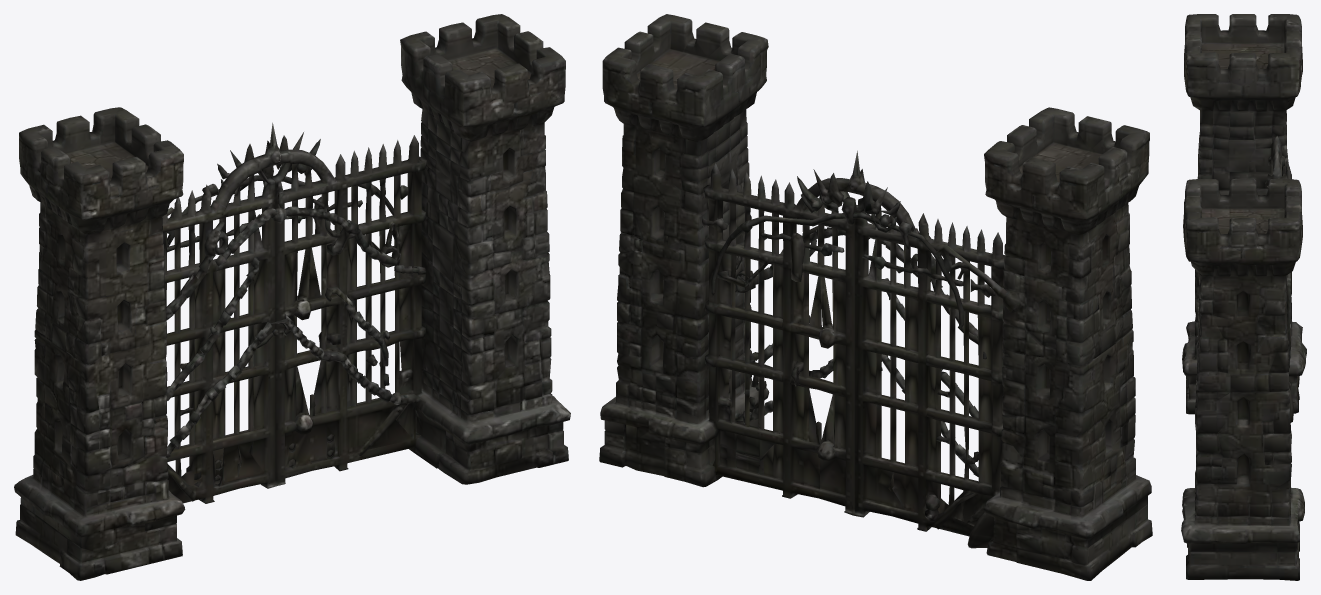
Rendered from black-gate.glb.
3 renders of one model, left to right at view 1: azimuth 30°, elevation 25°; view 2: azimuth 150°, elevation 25°; view 3: azimuth 270°, elevation 25°, orthographic. The views are drawn at different scales.
Visible parts, largest first — view 1: tripo_node_98d25a55-2275-4156-8205-02fb046ccb7d; view 2: tripo_node_98d25a55-2275-4156-8205-02fb046ccb7d; view 3: tripo_node_98d25a55-2275-4156-8205-02fb046ccb7d.
Boxes of the visible parts, x1,y1,x2,y2 form: tripo_node_98d25a55-2275-4156-8205-02fb046ccb7d: (14,14,570,580); tripo_node_98d25a55-2275-4156-8205-02fb046ccb7d: (599,14,1152,580); tripo_node_98d25a55-2275-4156-8205-02fb046ccb7d: (1181,14,1306,580).
Size of the model in its own units: 0.9799 by 0.7652 by 0.2435.
1 material, 1 textured.
